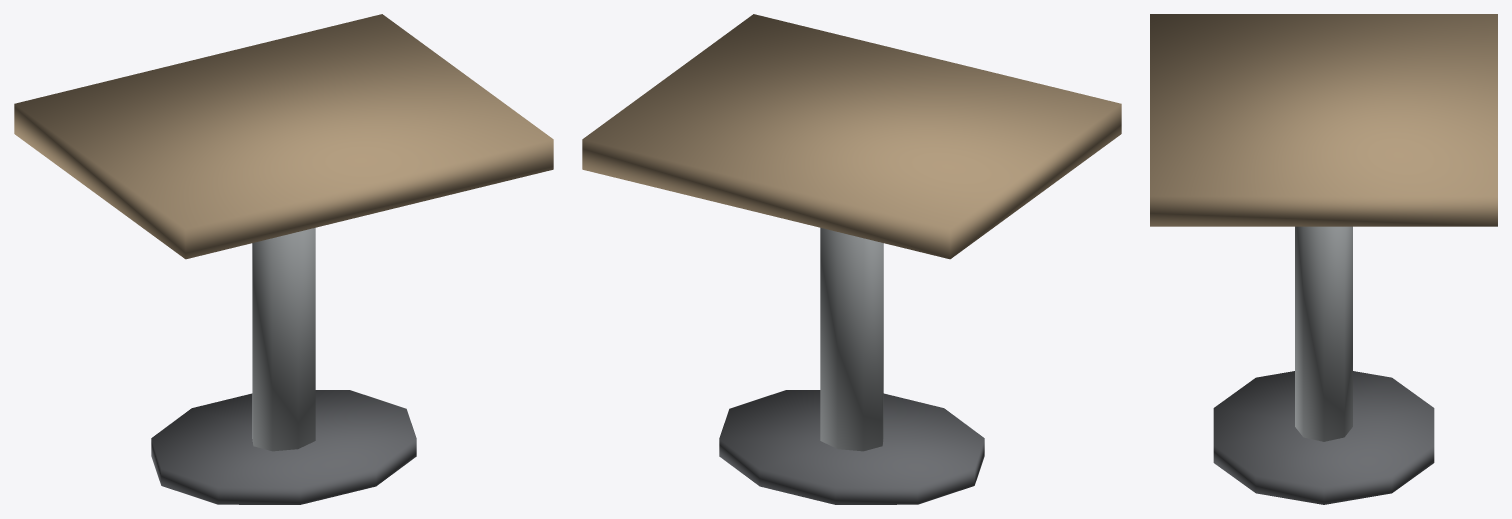
File: diner_two_top__wide.glb
The picture shows the model from 3 angles, left to right: view 1: azimuth 30°, elevation 25°; view 2: azimuth 150°, elevation 25°; view 3: azimuth 270°, elevation 25°; orthographic projection.
Visible parts, largest first — view 1: world; view 2: world; view 3: world.
Boxes of the visible parts, x1,y1,x2,y2 form: world: [14, 14, 553, 504]; world: [582, 14, 1121, 504]; world: [1150, 14, 1497, 504].
Bounding box in the file's own units: 0.8928 × 0.775 × 0.72.
